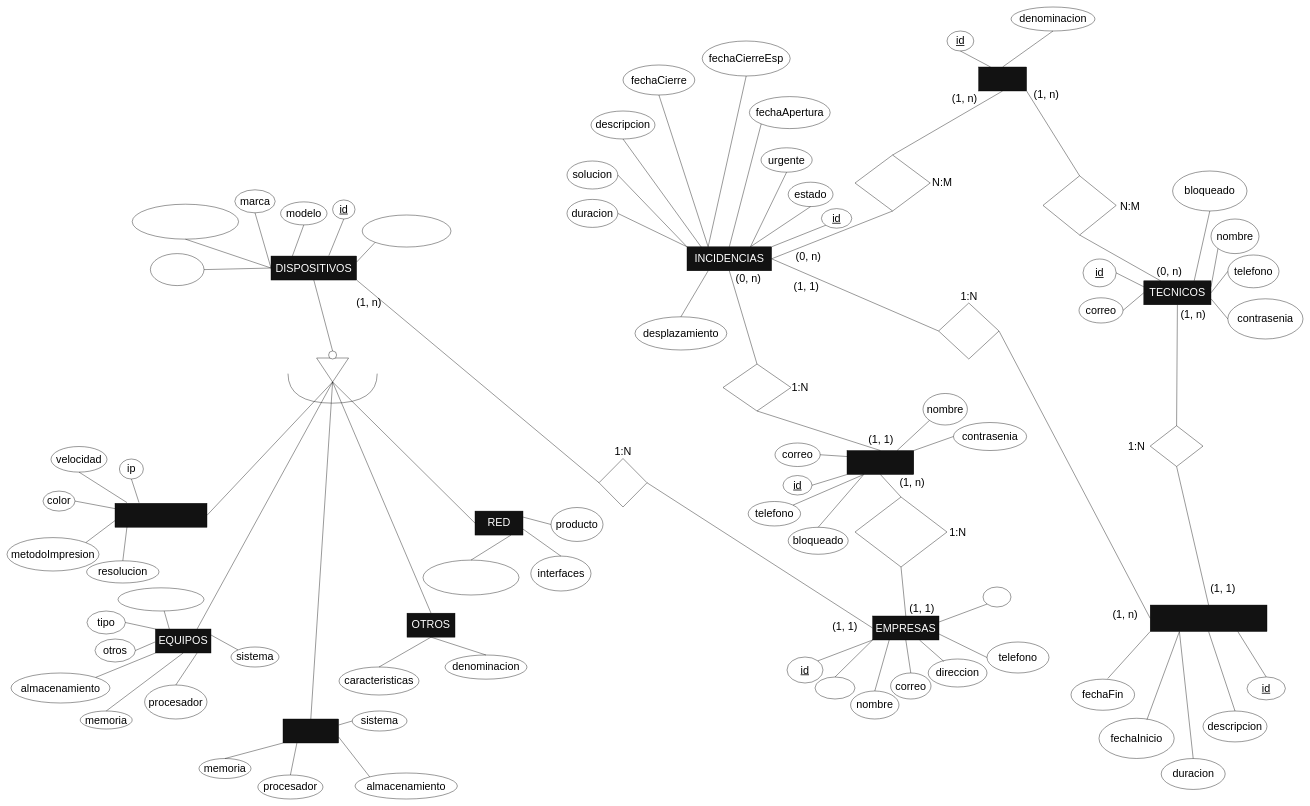
This 1310x806 diagram has some shape labels left out. Each missing label, with the box of its shape:
activo: (150, 253, 204, 286)
categorizan: (855, 155, 930, 211)
cif: (983, 587, 1011, 607)
cp: (815, 677, 855, 699)
IMPRESORAS: (115, 503, 207, 527)
INTERVENCIONES: (1150, 605, 1267, 632)
MOVILES: (283, 719, 339, 743)
necesitan: (938, 303, 999, 359)
numeroProducto: (132, 204, 239, 239)
numeroSerie: (362, 215, 451, 247)
pertenecen a: (855, 497, 947, 567)
realizan: (1150, 425, 1203, 467)
registran: (723, 364, 791, 411)
servidorCliente: (118, 587, 204, 611)
son de: (599, 458, 647, 507)
trabajan en: (1043, 175, 1116, 235)
USUARIOS: (847, 450, 914, 475)
velocidadMaxima: (423, 560, 519, 595)
ÁREAS: (978, 67, 1027, 91)
